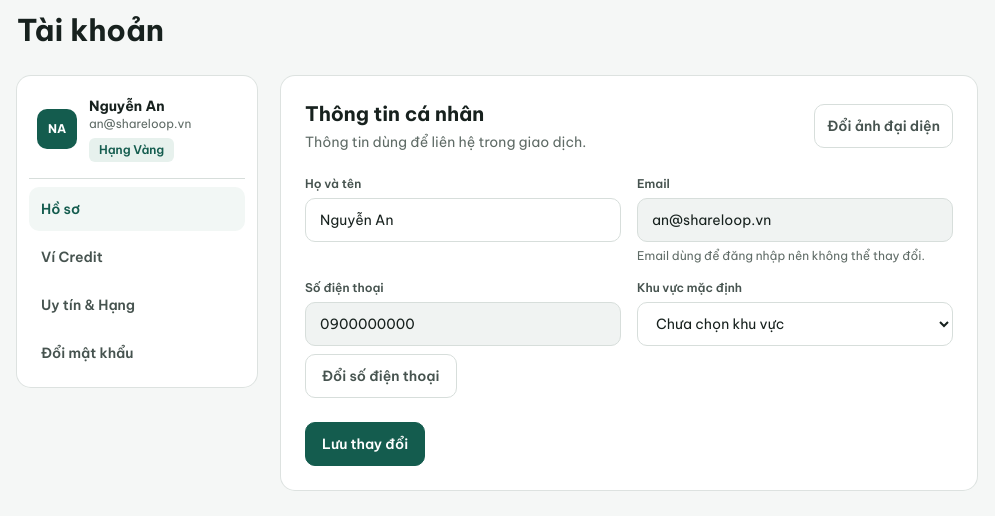
Test case: Profile › đổi sang tab Uy tín khi bấm nút và dùng lại kết quả đã tải
Expected: the text "Hạng Vàng" is shown, [89,138,174,162]
Step 1. Click the button "Uy tín & Hạng" → (137, 305), box [29,283,245,327]
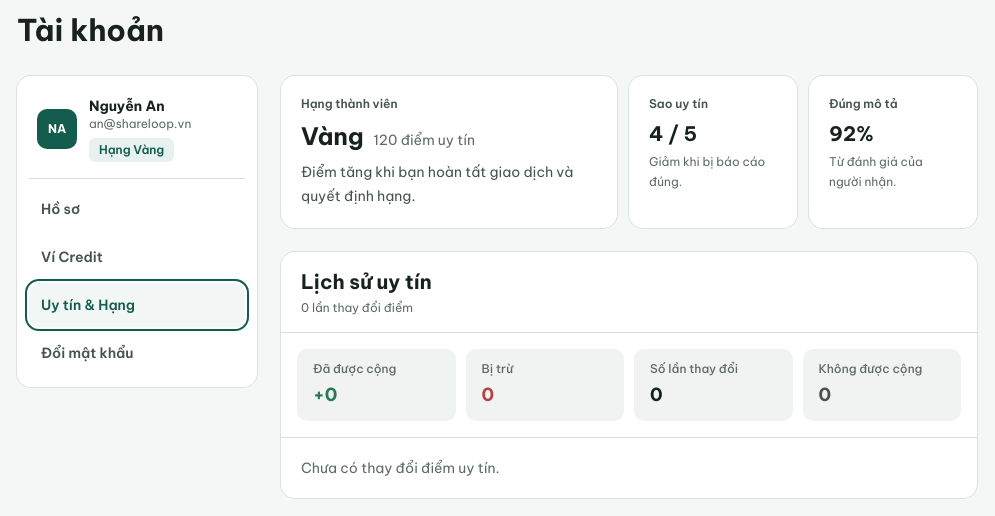
Expected: the heading "Lịch sử uy tín" is shown, [301,269,432,294]
